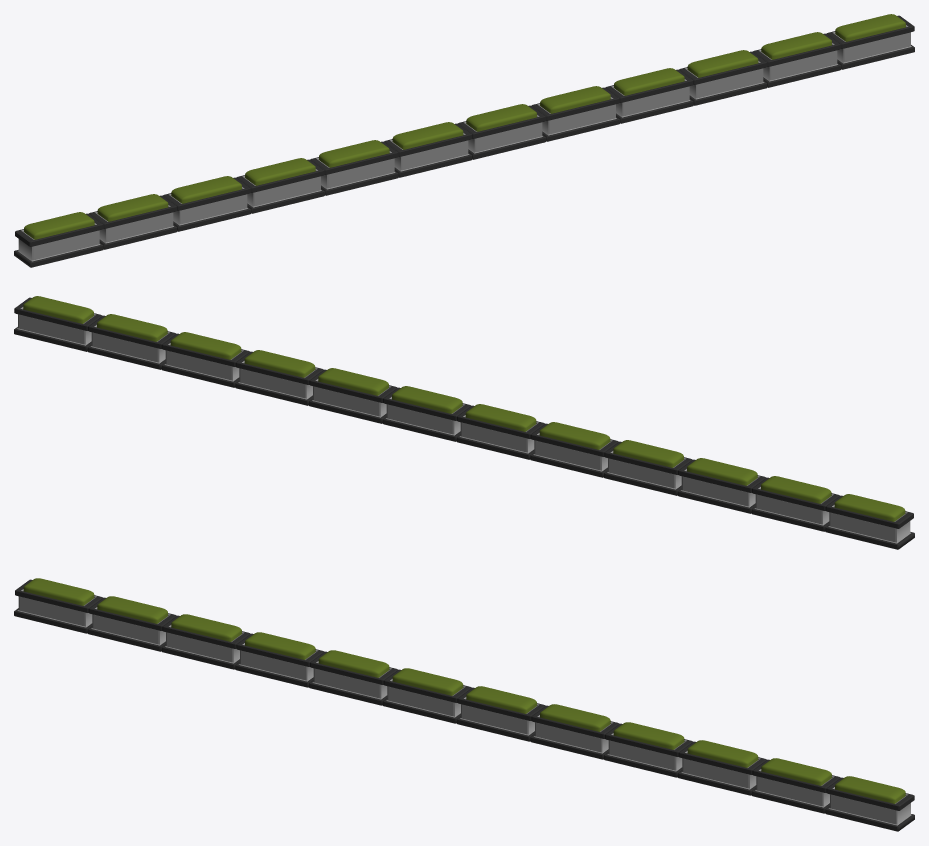
The model's file is pagar.glb.
The picture shows the model from 3 angles, top to bottom: view 1: azimuth 30°, elevation 25°; view 2: azimuth 150°, elevation 25°; view 3: azimuth 330°, elevation 25°; orthographic projection.
Visible parts, largest first — view 1: Cube; view 2: Cube; view 3: Cube.
Part boxes in pixels (box(x1,y1,x2,y2)): Cube: box(14, 14, 914, 267); Cube: box(14, 296, 914, 549); Cube: box(14, 578, 914, 831).
Bounding box in the file's own units: 67.95 × 2.29 × 2.25.
